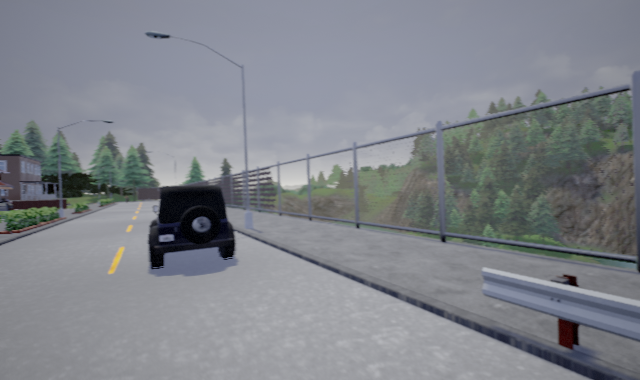vehicle: (144, 182, 236, 269)
